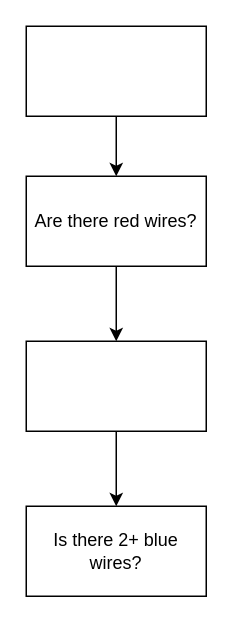
Image size: 233x623. Some labels were removed from this diagram. The shapes that lost their labels are listed below. From the top down, each one's centre as x and y in pixels, then its label:
[115,70]: 3 wires
[115,385]: Is the last wire white?
